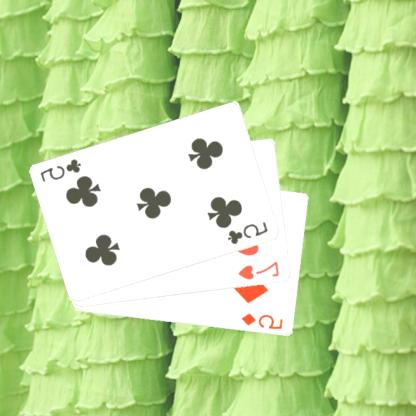5C: (40, 156, 86, 183), (227, 219, 272, 246)
5D: (240, 310, 286, 332)
7H: (237, 259, 283, 282)
